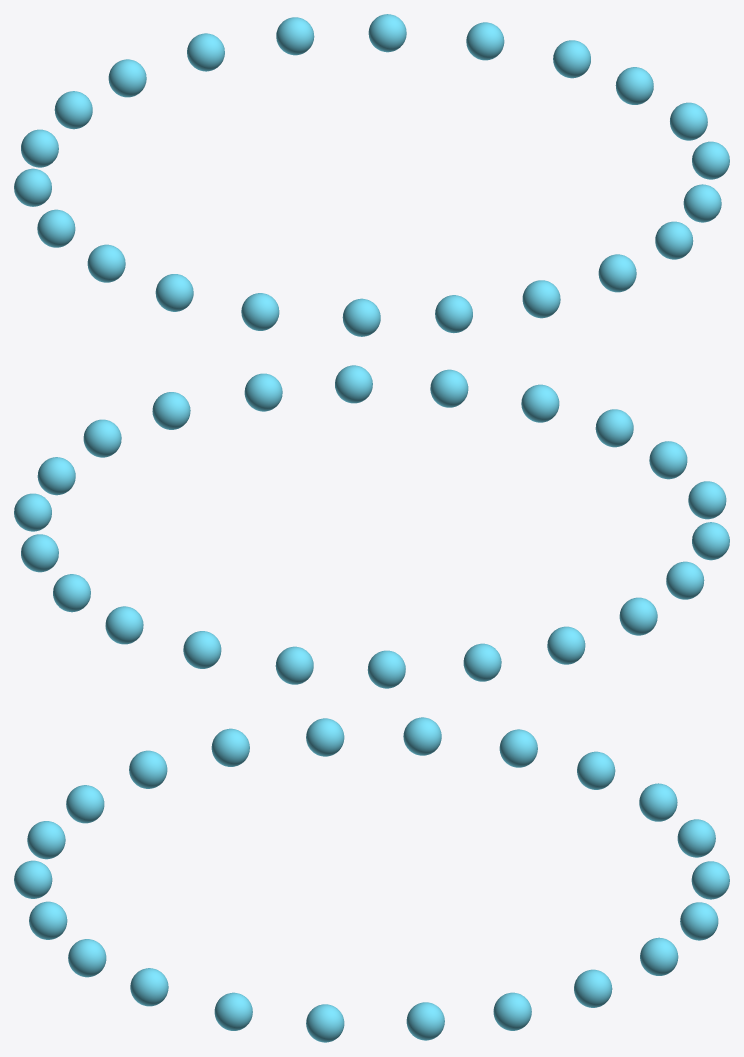
The picture shows the model from 3 angles, top to bottom: view 1: azimuth 30°, elevation 25°; view 2: azimuth 150°, elevation 25°; view 3: azimuth 270°, elevation 25°; orthographic projection.
Visible parts, largest first — view 1: Sphere049; view 2: Sphere049; view 3: Sphere049.
Boxes of the visible parts, <box> form: Sphere049: <box>14,14,729,336</box>; Sphere049: <box>14,365,729,688</box>; Sphere049: <box>14,717,729,1042</box>.
Size of the model in its own units: 154 by 8.22 by 153.
